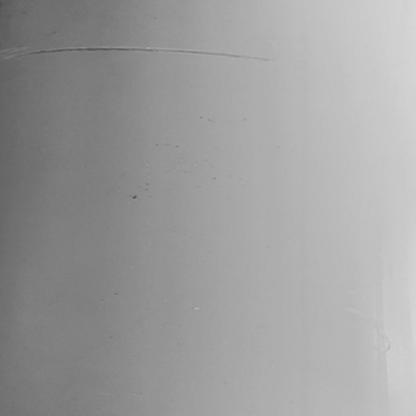sunshang: (3, 42, 274, 66)
